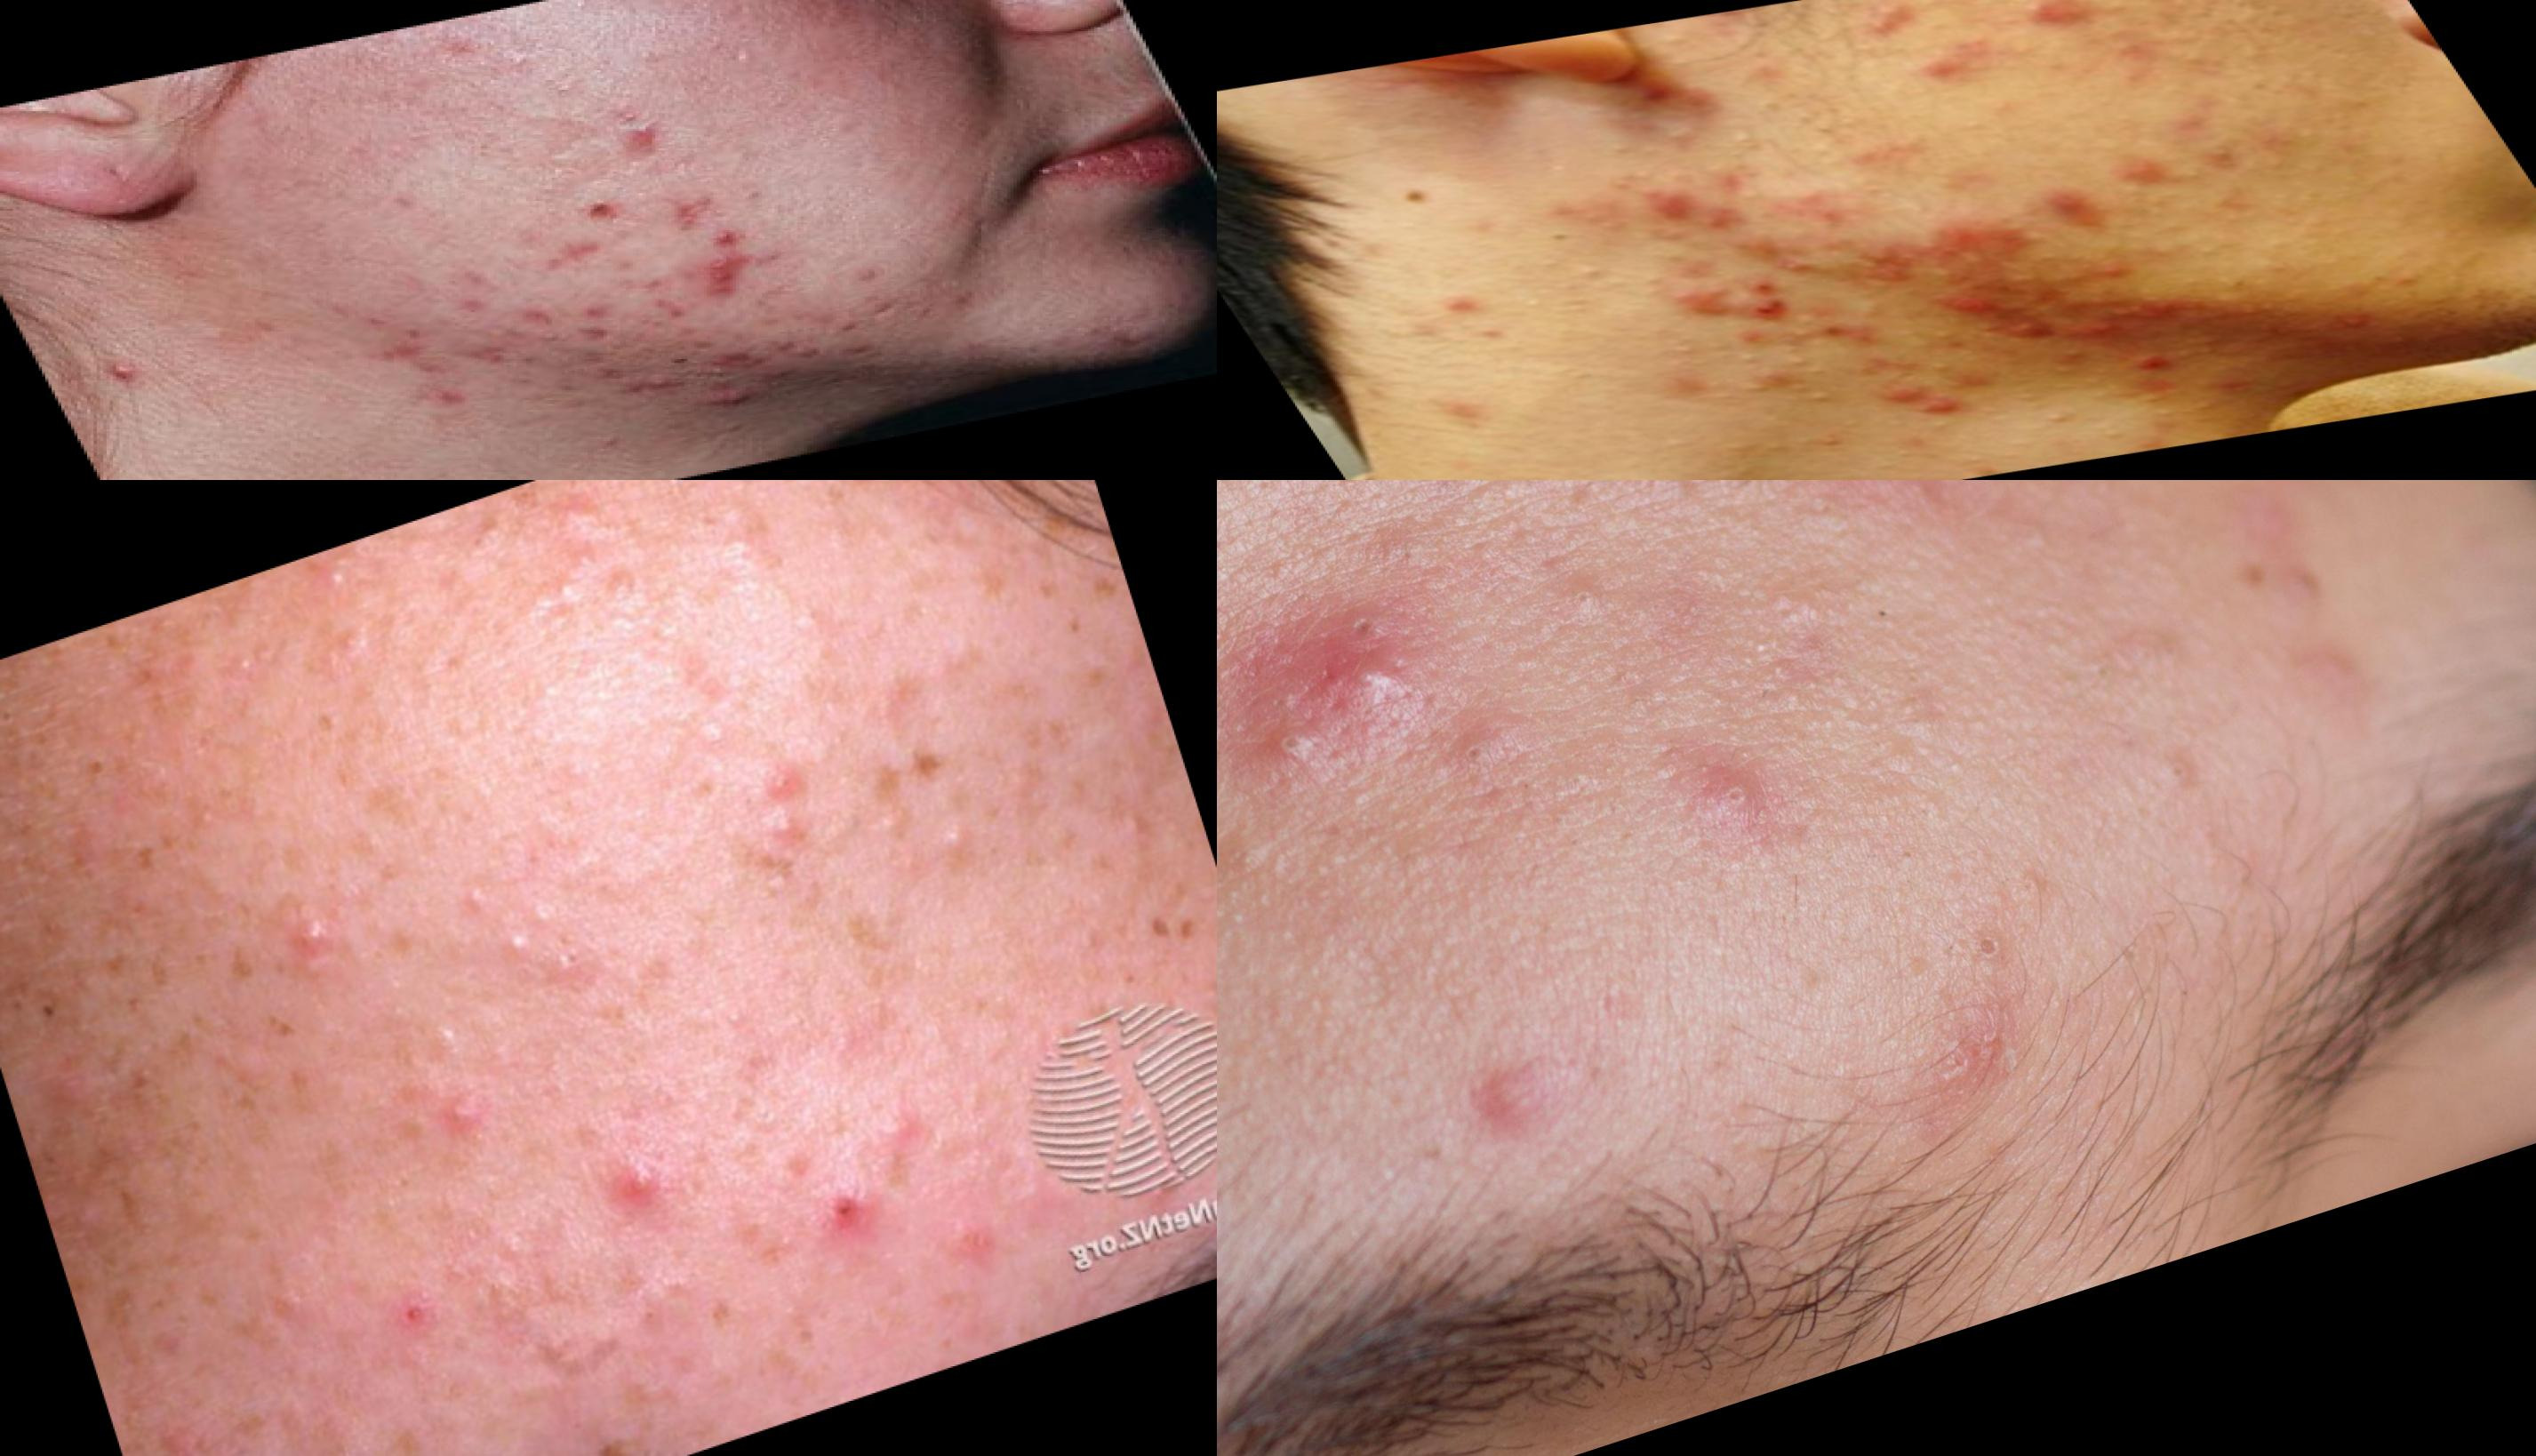acne_scars: (639, 190, 718, 247), (488, 293, 570, 338), (561, 320, 632, 364), (819, 329, 892, 371)
blackhead: (617, 1282, 678, 1360)
cystic: (685, 378, 768, 415), (92, 355, 155, 399)
papular: (1230, 554, 1493, 792), (1421, 1026, 1602, 1188), (1843, 380, 1986, 451), (568, 94, 704, 169), (873, 1089, 960, 1186), (923, 808, 1000, 904), (1897, 51, 2026, 101), (1926, 279, 2045, 331), (737, 738, 810, 820), (381, 1273, 458, 1348), (2019, 183, 2125, 237), (1731, 280, 1815, 334), (815, 1176, 874, 1247), (2000, 2, 2104, 42), (1616, 179, 1707, 225), (2094, 345, 2188, 387), (1613, 73, 1707, 113), (479, 918, 542, 977), (2057, 313, 2144, 355), (413, 1014, 475, 1068), (543, 935, 596, 994), (2097, 153, 2168, 192), (1662, 287, 1733, 320)
purulent: (603, 1158, 683, 1237), (275, 907, 348, 981), (428, 1080, 495, 1155)
sebo-crystan-conglo: (672, 247, 777, 310)
whitehead: (1646, 705, 1824, 886), (1106, 792, 1179, 874), (1292, 481, 1411, 529), (1555, 256, 1648, 301), (1618, 427, 1707, 467), (1710, 117, 1785, 164), (2212, 38, 2292, 78), (2162, 235, 2243, 273), (1644, 21, 1730, 57), (1637, 120, 1721, 153), (1855, 2, 1932, 37), (1775, 383, 1855, 416), (1587, 132, 1660, 167), (1507, 289, 1569, 329), (1836, 298, 1912, 329), (1716, 343, 1787, 374), (1641, 334, 1712, 364), (1916, 355, 1986, 383), (1787, 101, 1851, 131), (2027, 408, 2092, 435)
